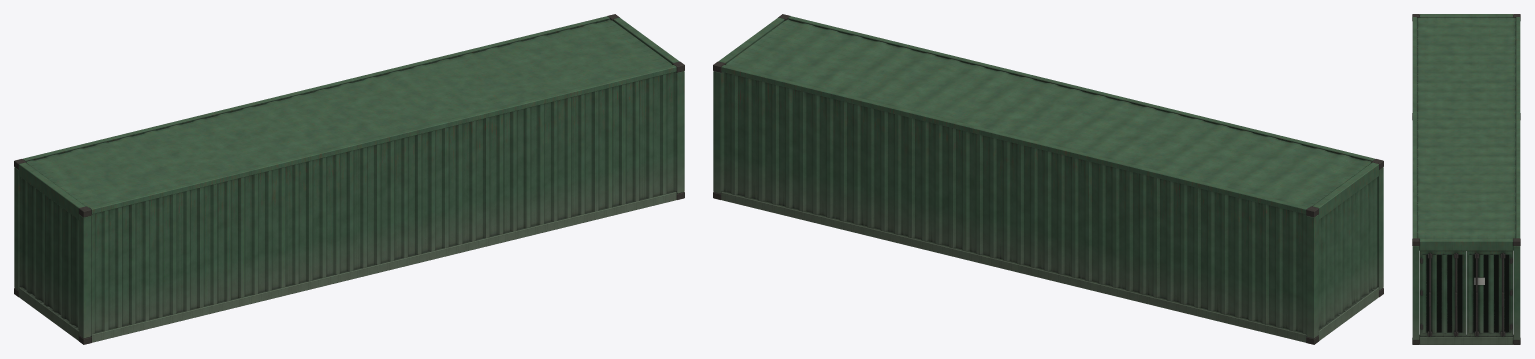
File: container40_green.glb
The picture shows the model from 3 angles, left to right: view 1: azimuth 30°, elevation 25°; view 2: azimuth 150°, elevation 25°; view 3: azimuth 270°, elevation 25°; orthographic projection. The views are drawn at different scales.
Visible parts, largest first — view 1: container40_green; view 2: container40_green; view 3: container40_green.
Part boxes in pixels (x1,y1,x2,y2): container40_green: [14, 14, 684, 344]; container40_green: [713, 14, 1383, 344]; container40_green: [1412, 14, 1520, 344].
Size of the model in its own units: 12.31 by 2.59 by 2.45.
Materials: 1 (1 with a texture image).
